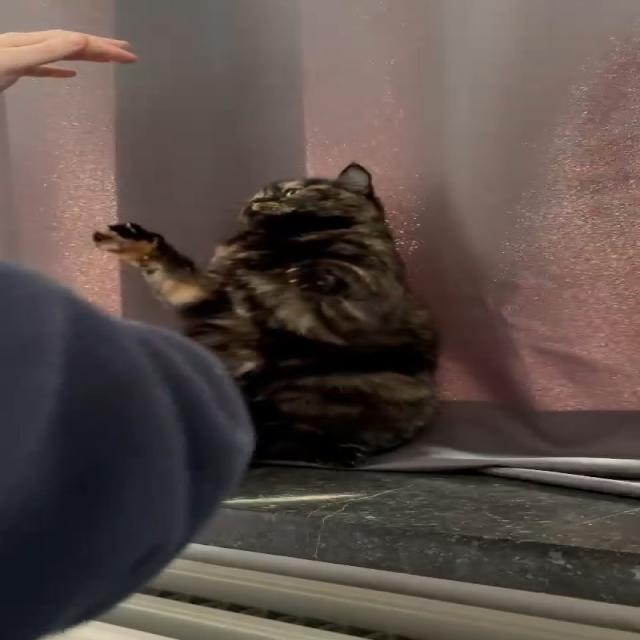authorized: (90, 160, 442, 468)
